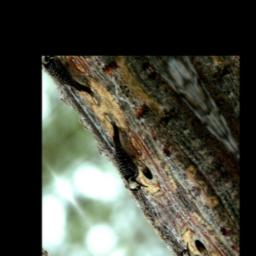Woodpecker: (86, 111, 163, 202)
